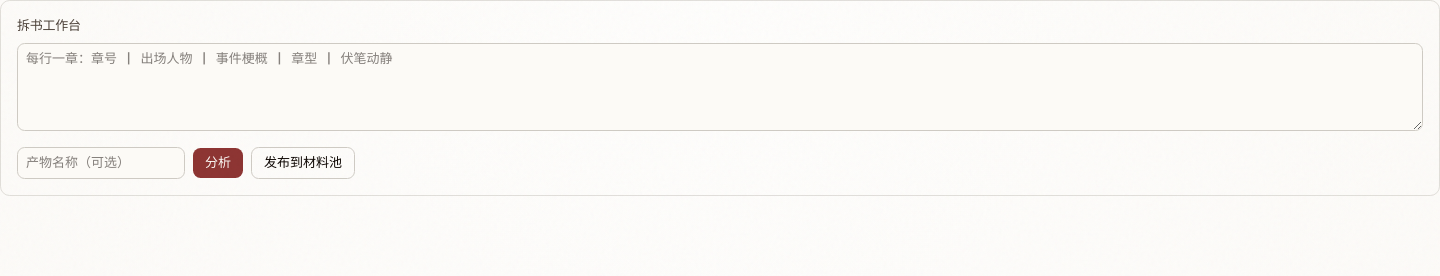
Test: DeconstructPanel 交互（477 号） › 发布到材料池：载荷带 publish+可选名称，产物 id 进通知
Type "1 | 林动 | 初入大荒" into the text box with placeholder "每行一章：章号 | 出场人物 | 事件梗概 | 章型 | 伏笔动静" at (720, 87), box x1=17 y1=43 x2=1423 y2=131
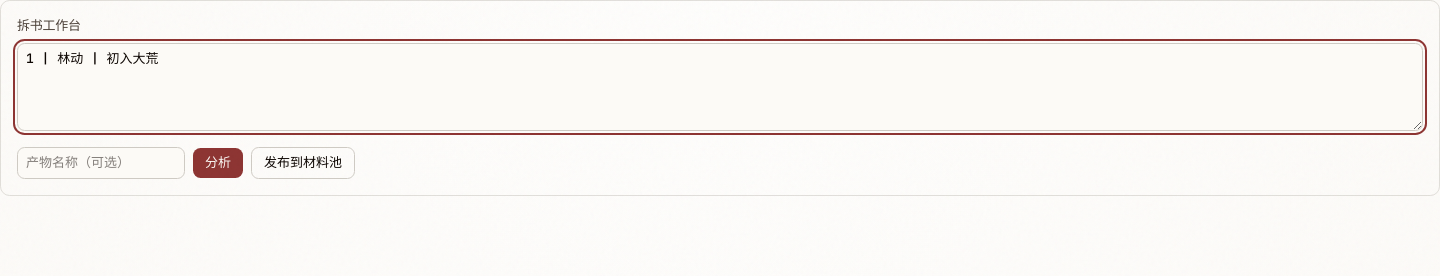
Type "我的拆书" into the field with placeholder "产物名称（可选）" at (101, 163), box x1=17 y1=147 x2=185 y2=179
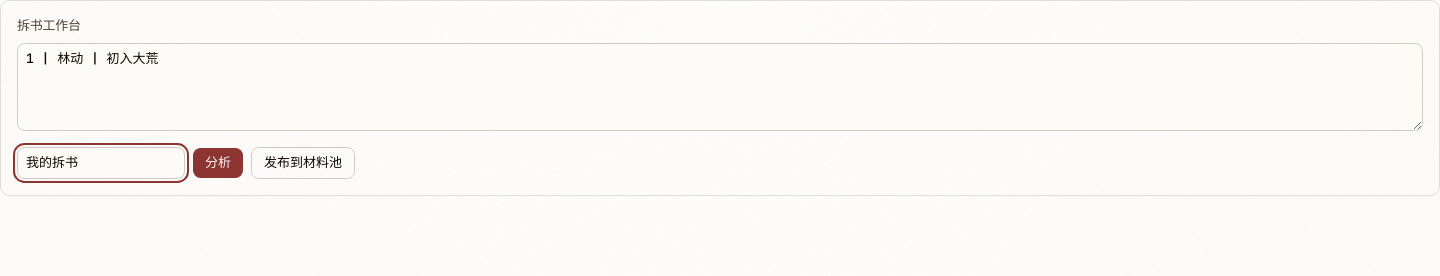
Click the button "发布到材料池" at (303, 163), box x1=251 y1=147 x2=355 y2=179
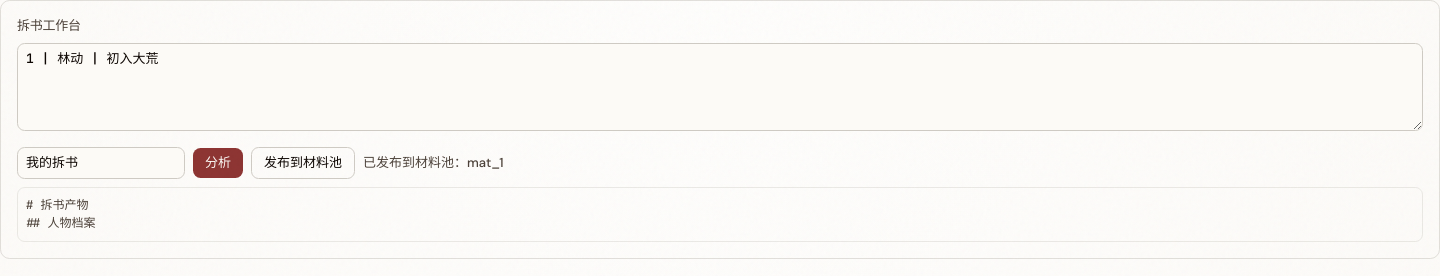
expect the text "已发布到材料池：mat_1" is shown: met, box x1=363 y1=154 x2=504 y2=172
